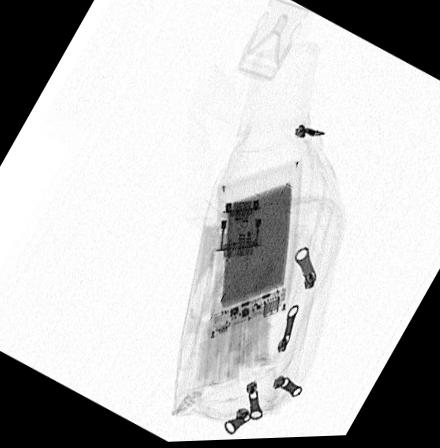Powerbank: (207, 159, 300, 342)
